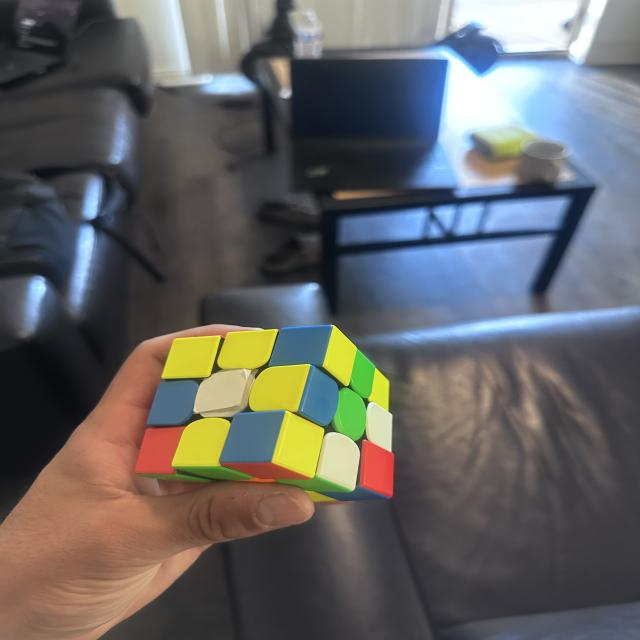sticker: (222, 408, 322, 482), (249, 362, 337, 426), (312, 437, 396, 502), (274, 428, 356, 492), (171, 416, 249, 482), (133, 423, 199, 483), (269, 324, 339, 375), (161, 334, 223, 380), (217, 327, 280, 372), (296, 365, 340, 428), (145, 379, 200, 429), (355, 439, 395, 502), (319, 326, 359, 387), (331, 386, 366, 443), (202, 370, 246, 412), (364, 400, 393, 452), (348, 348, 376, 398), (368, 368, 391, 413), (139, 472, 217, 484)
